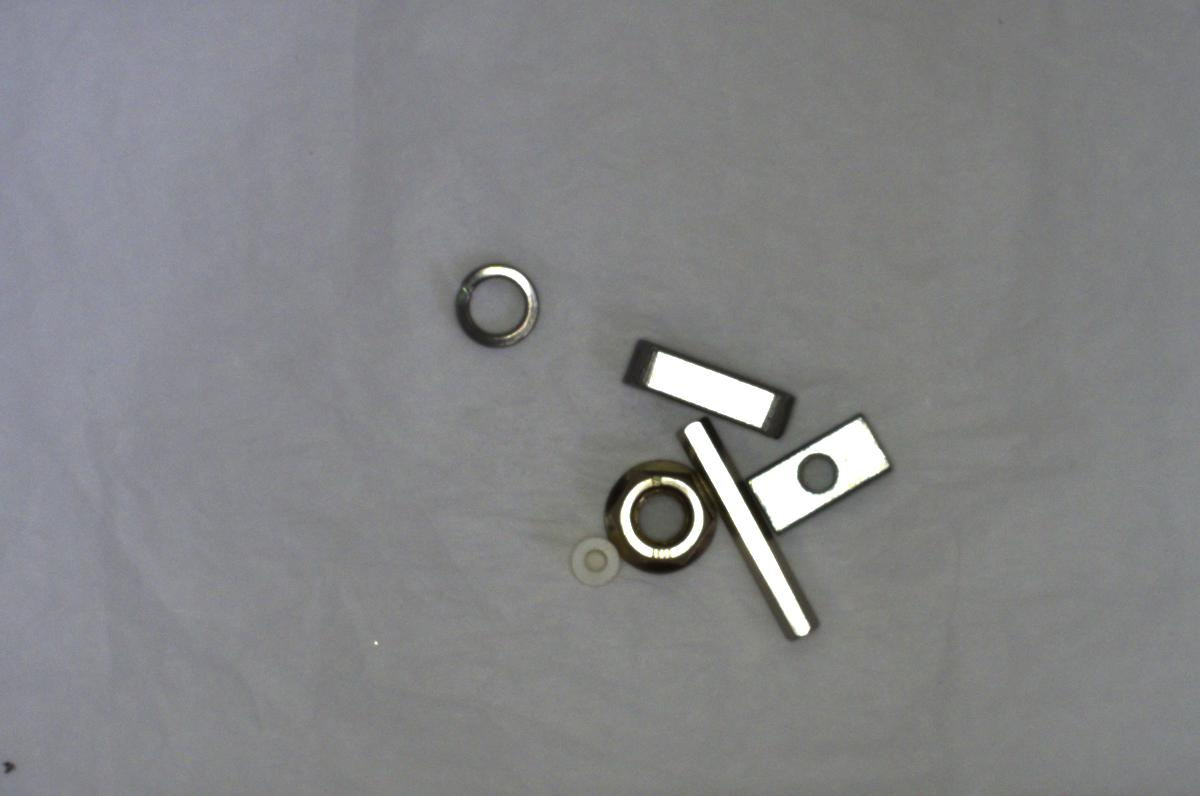Flange nut: (599, 452, 725, 579)
Keybar: (619, 328, 795, 443)
Plastic cushion pillar: (560, 528, 619, 586)
Rectangular nut: (742, 412, 894, 535)
Spring washer: (675, 412, 819, 636), (446, 249, 547, 355)
